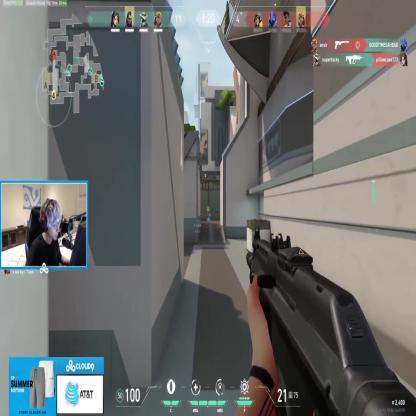enemy: (206, 206, 210, 221)
enemy_head: (207, 206, 209, 210)
